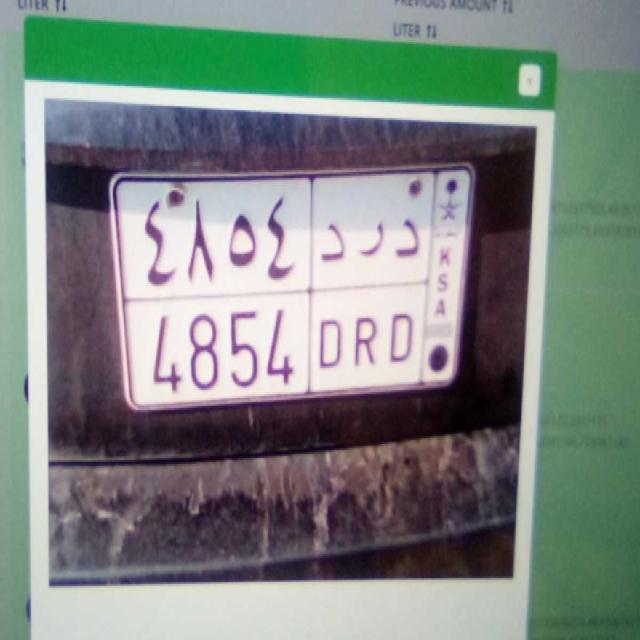license_plate: (118, 293, 424, 405)
